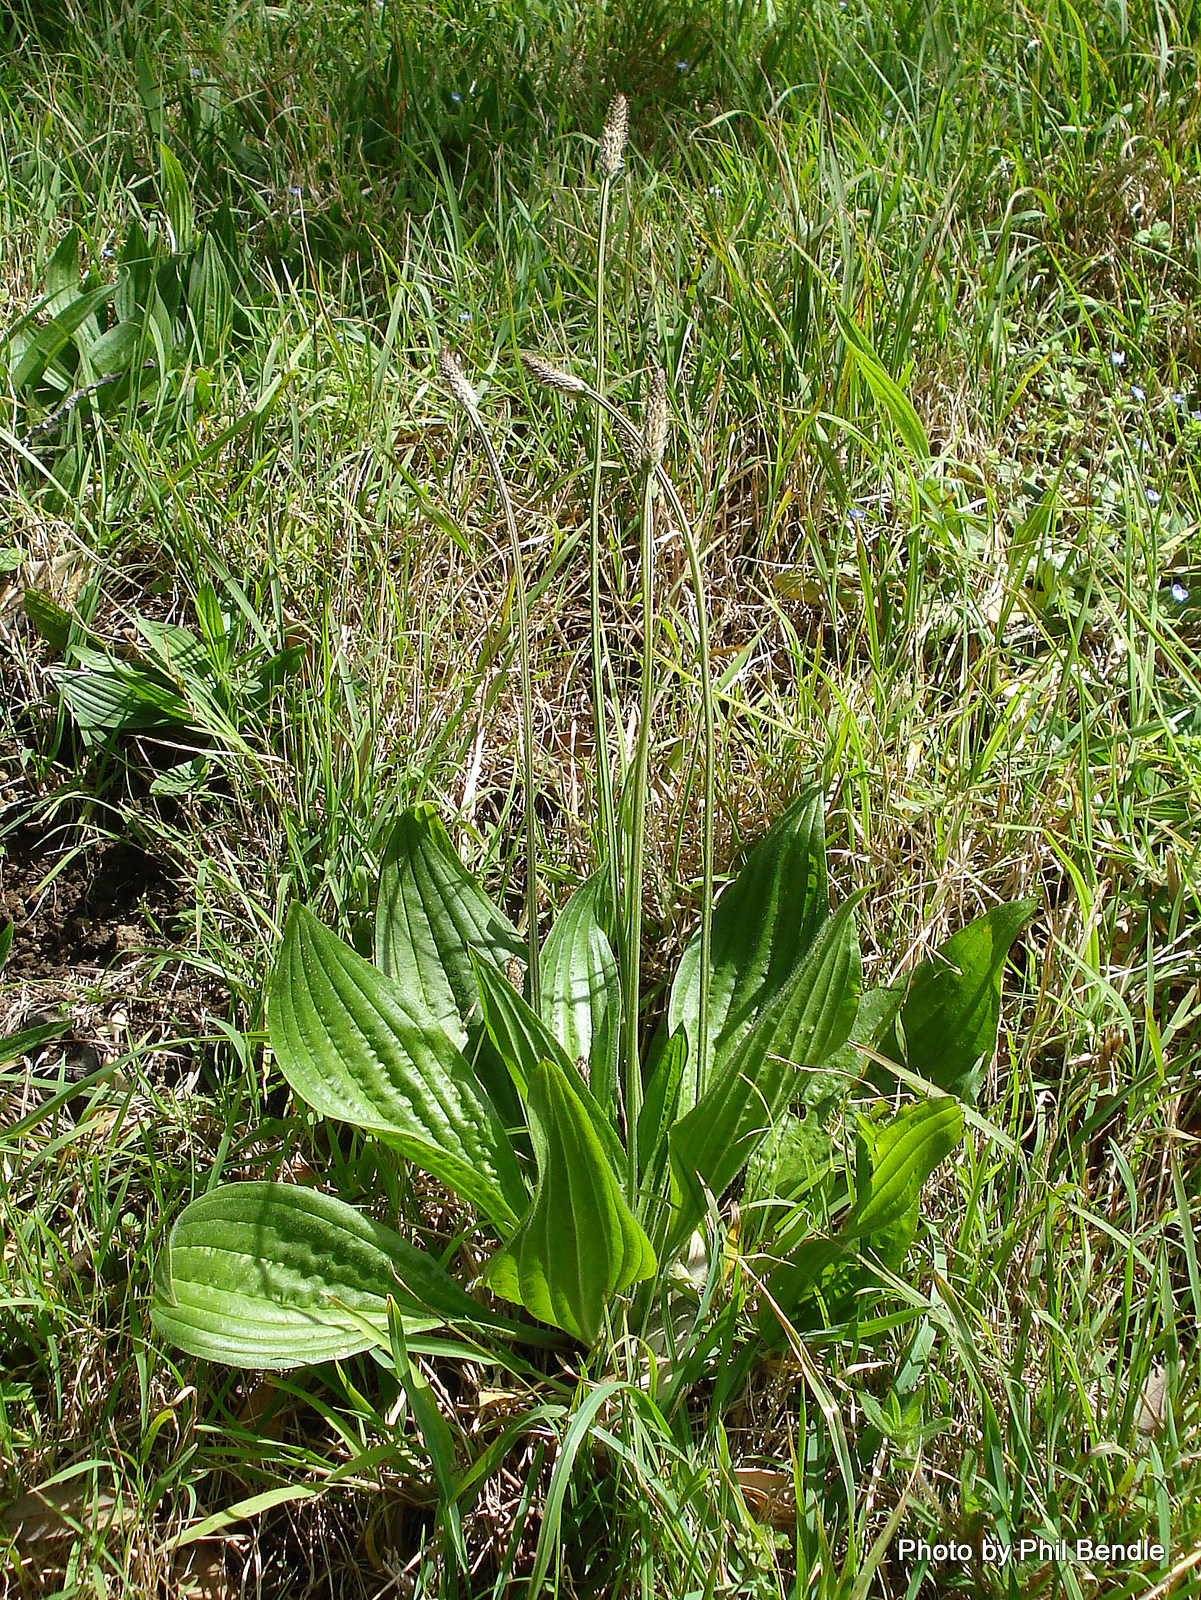buckhorn plantain: (196, 79, 934, 1339)
